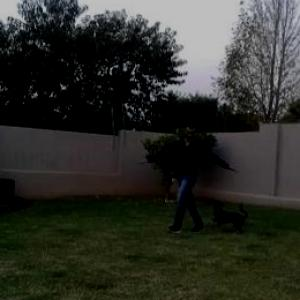land: (156, 120, 240, 220)
